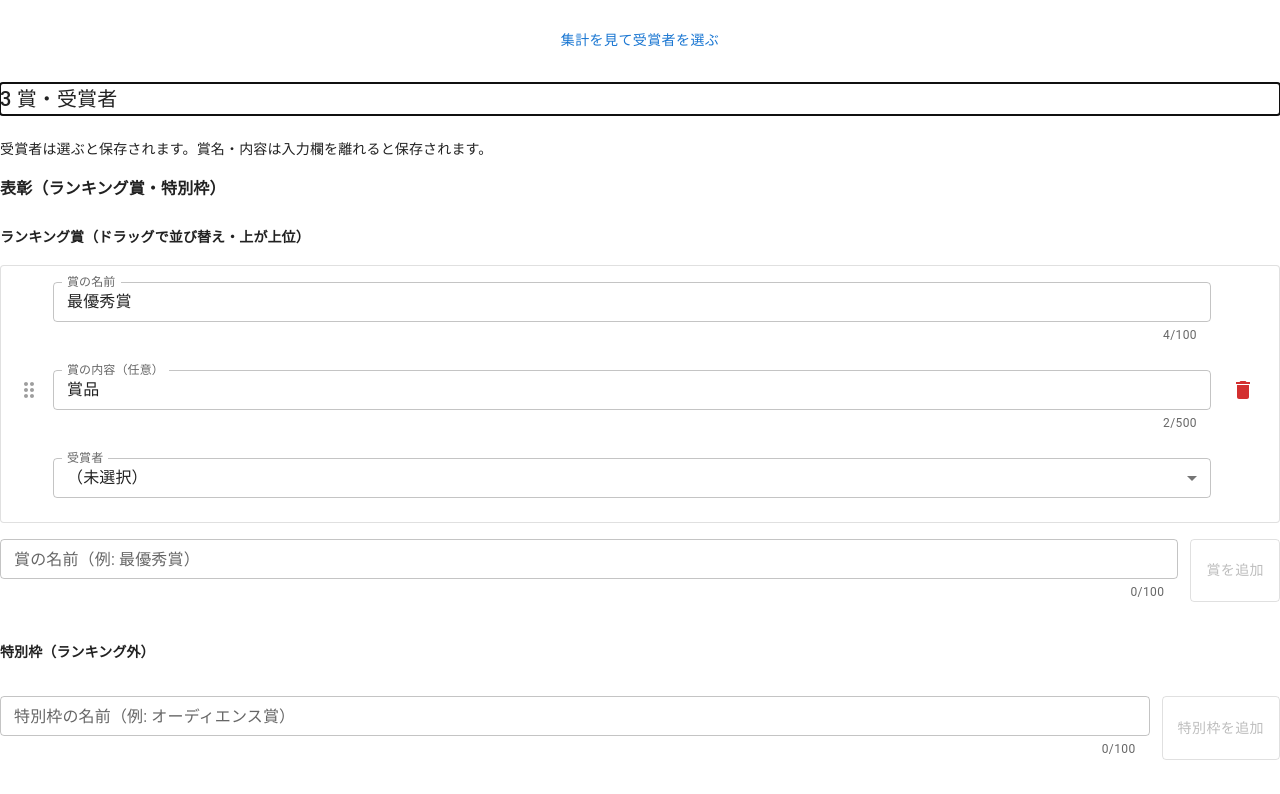
Test: keeps the failed candidate and retries the same winner only on request
(page scrolled)
Expected: the field labelled "賞の名前" is shown, 53,282 -> 1211,322
Step 1. Press the mouse on the dropdown named "受賞者" → (107, 478), box 67,468 -> 148,487
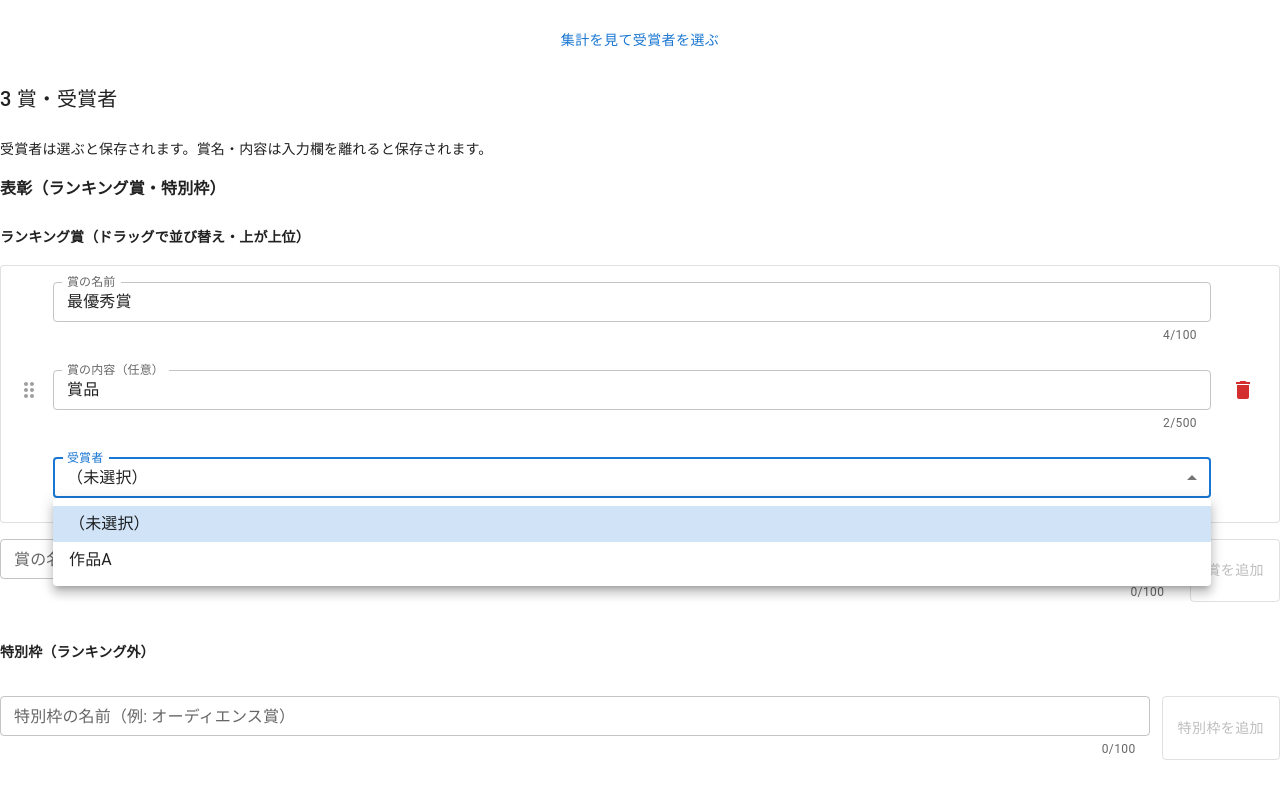
Step 2. Click the option "作品A" → click(90, 560), box 69,550 -> 112,569
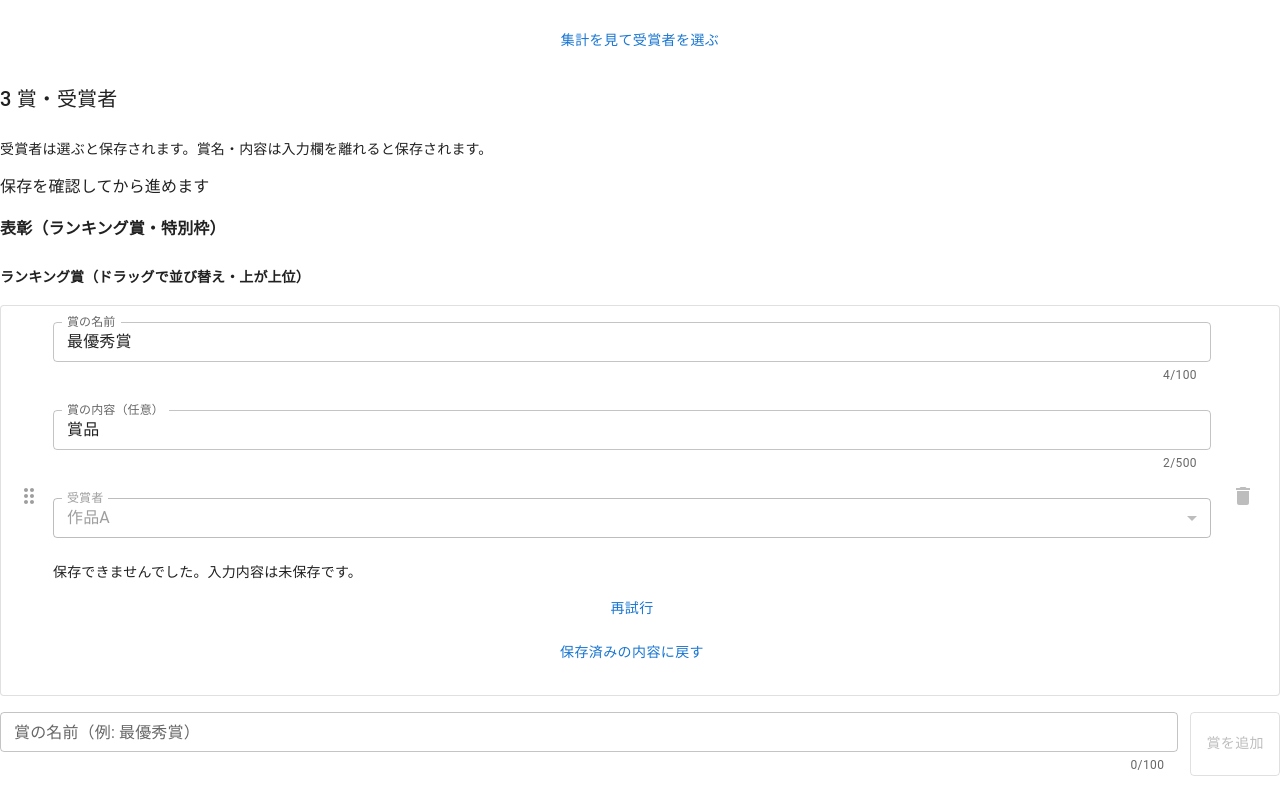
Result: the text "保存できませんでした。入力内容は未保存です。" is shown at 53,564 -> 362,580
Result: the dropdown named "受賞者" reads "作品A" at 67,508 -> 110,527
Step 3. Click the button "再試行" → click(632, 608), box 53,590 -> 1211,626
(page scrolled)
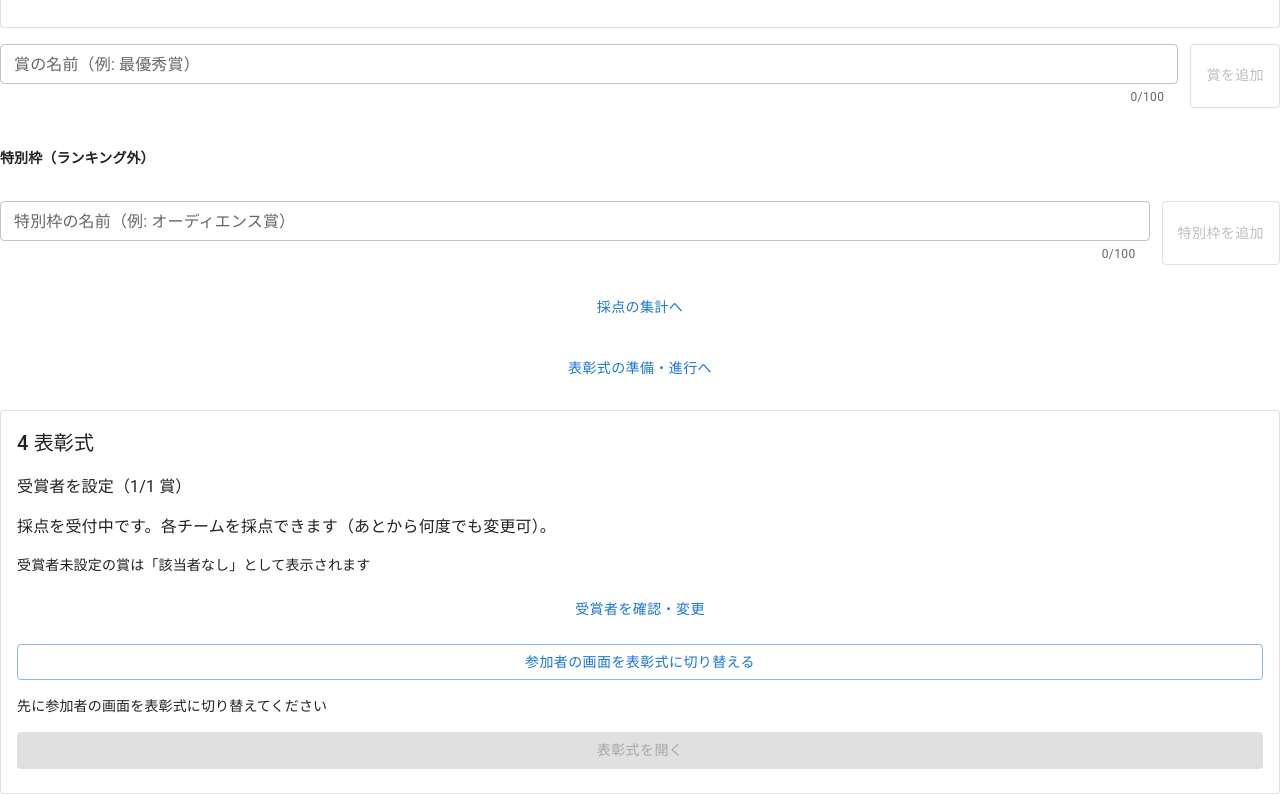
Result: the button "参加者の画面を表彰式に切り替える" is enabled at 17,644 -> 1263,680
